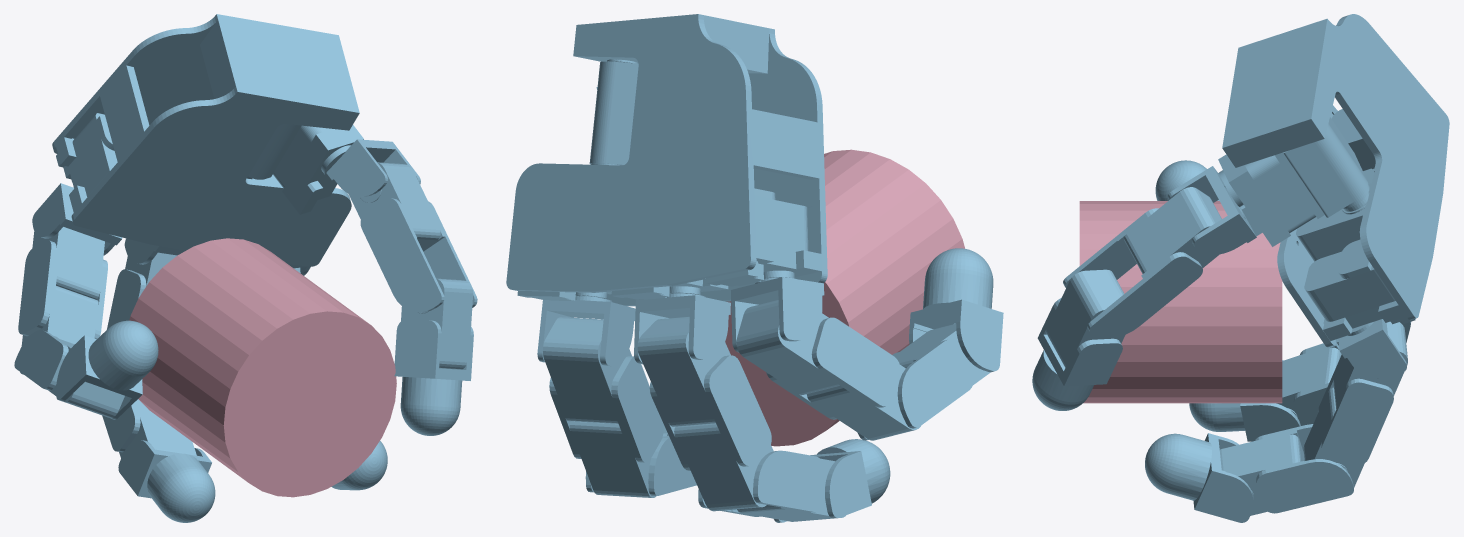
3 renders of one model, left to right at view 1: azimuth 30°, elevation 25°; view 2: azimuth 150°, elevation 25°; view 3: azimuth 270°, elevation 25°, orthographic. The views are drawn at different scales.
Visible parts, largest first — view 1: world, cylinder_medium.stl; view 2: world, cylinder_medium.stl; view 3: world, cylinder_medium.stl.
Part boxes in pixels (<box>): world: <box>14,14,477,522</box>; cylinder_medium.stl: <box>129,238,396,497</box>; world: <box>506,14,1003,522</box>; cylinder_medium.stl: <box>725,149,964,446</box>; world: <box>1032,14,1449,522</box>; cylinder_medium.stl: <box>1079,201,1282,403</box>.
Size of the model in its own units: 0.1638 by 0.2015 by 0.1648.
